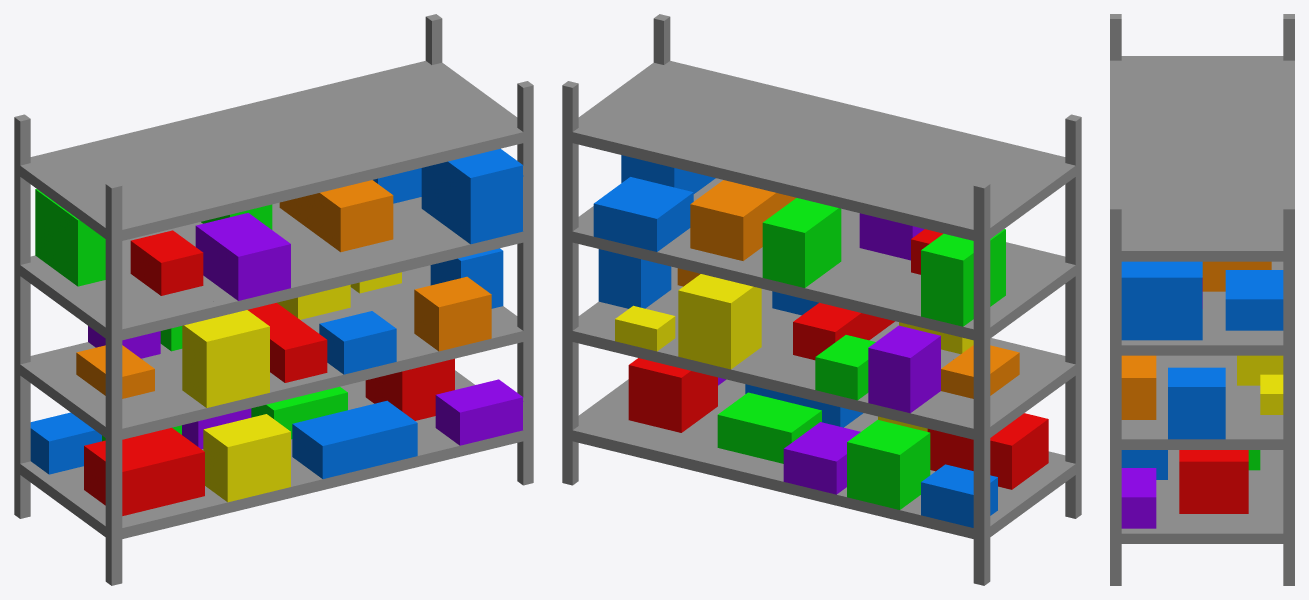
The model's file is FullShelf.glb.
3 views of the same model, side by side, from view 1: azimuth 30°, elevation 25°; view 2: azimuth 150°, elevation 25°; view 3: azimuth 270°, elevation 25° (orthographic). The views are drawn at different scales.
Parts seen in each view (by area): view 1: model; view 2: model; view 3: model.
Boxes of the visible parts, x1,y1,x2,y2 form: model: (14, 14, 533, 585); model: (562, 14, 1081, 585); model: (1110, 14, 1294, 585).
Size of the model in its own units: 4 by 3.6 by 1.6.
1 material, 1 textured.
